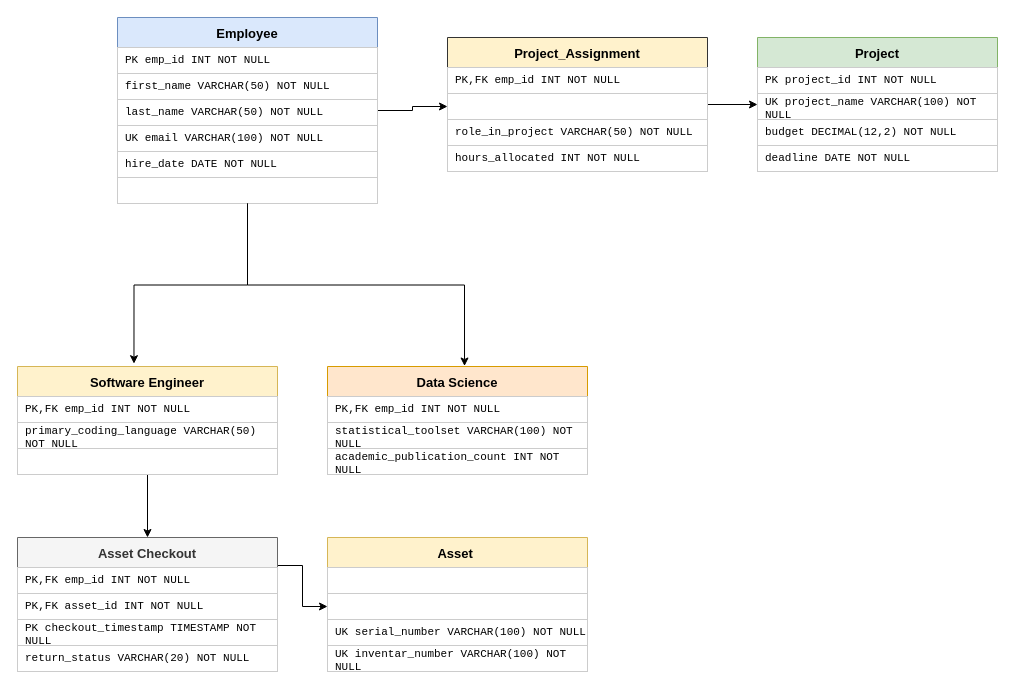
The diagram is 1015 pixels wide and 689 high, and some of its shapes have lost their labels. The centre of each missing label's shape, as x and y in pixels:
"FK manager_id INT NULL" belongs at (x=247, y=190).
"git_username VARCHAR(50) NOT NULL" belongs at (x=147, y=461).
"hardware_model VARCHAR(100) NOT NULL" belongs at (x=457, y=606).
"PK asset_id INT NOT NULL" belongs at (x=457, y=580).
"PK,FK project_id INT NOT NULL" belongs at (x=577, y=106).
